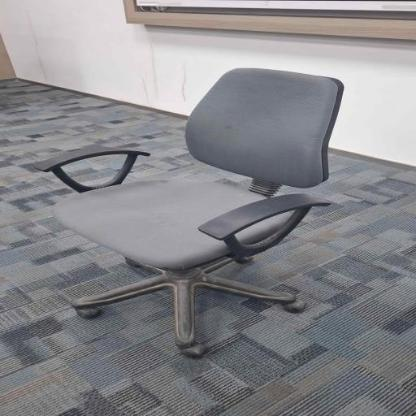chair: (33, 61, 351, 357)
